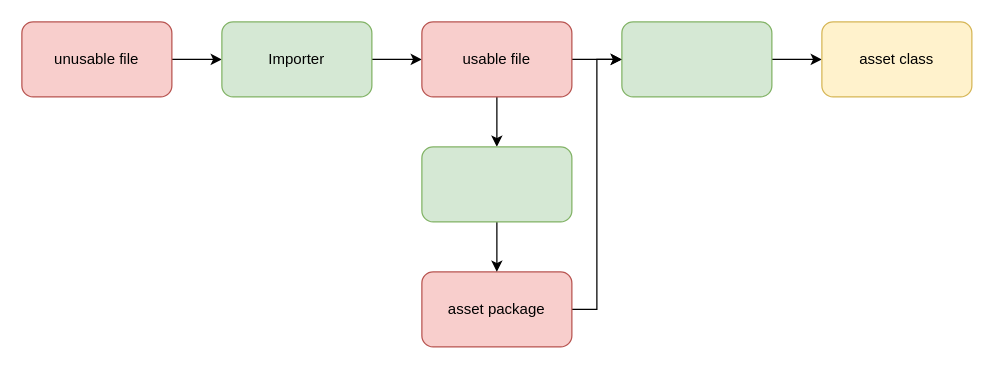
Some shapes in this 994 by 369 pixel diagram are drawn without their labels. Each missing label, with the centre of its shape:
Asset Compiler: (496,184)
Loader: (696,59)
